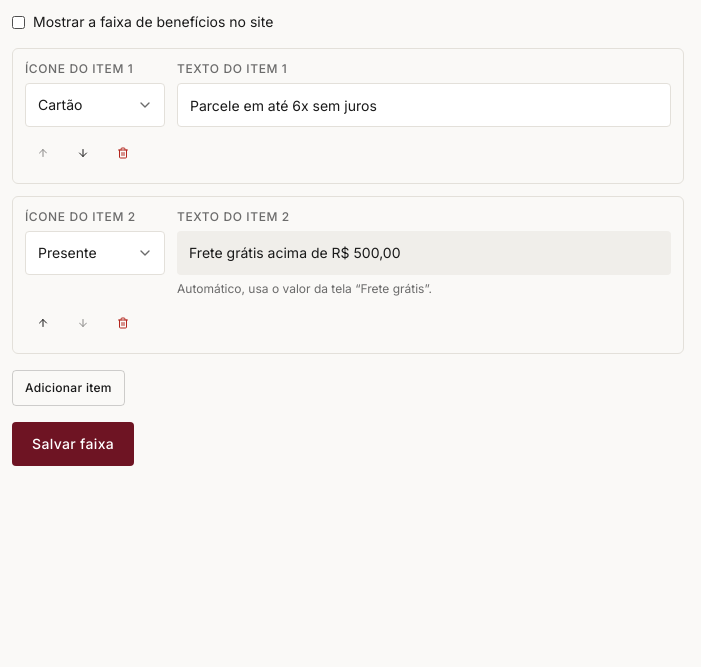
HighlightsForm › bloqueia item de texto vazio
What coordinates should you click on to do the following:
click the button "Adicionar item"
I would click on:
 (68, 388)
Its box is x1=12 y1=370 x2=125 y2=406.
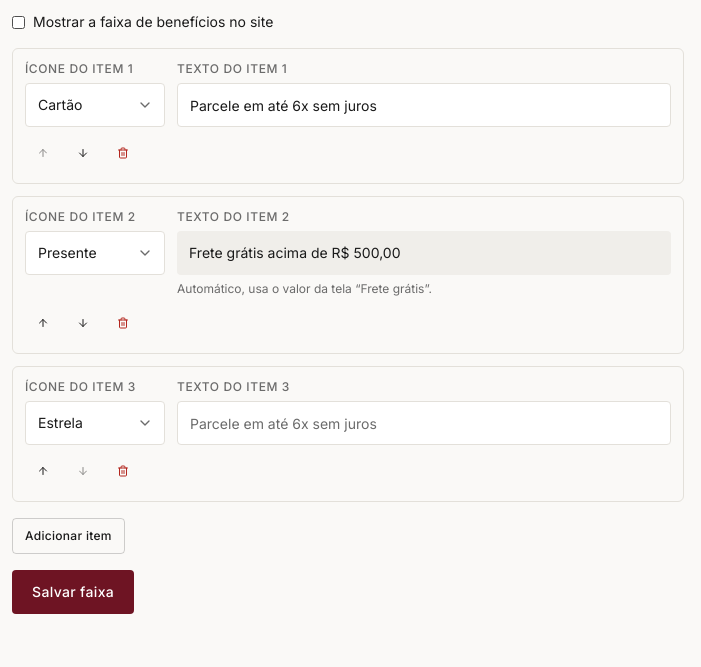
What coordinates should you click on to do the following:
click the button "Salvar faixa"
I would click on:
 (73, 592)
Its box is x1=12 y1=570 x2=134 y2=614.
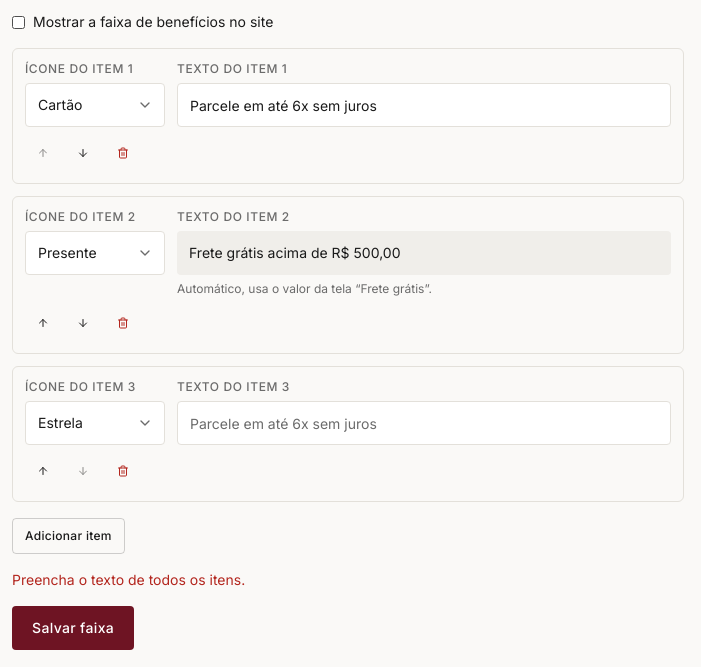
Result: the text "Preencha o texto de todos os itens." is shown at x1=12 y1=571 x2=245 y2=588
